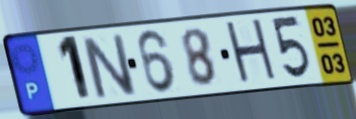1: (56, 32, 95, 105)
5: (270, 13, 312, 83)
6: (136, 27, 180, 97)
8: (180, 26, 219, 90)
H: (222, 16, 282, 89)
N: (78, 32, 140, 101)
